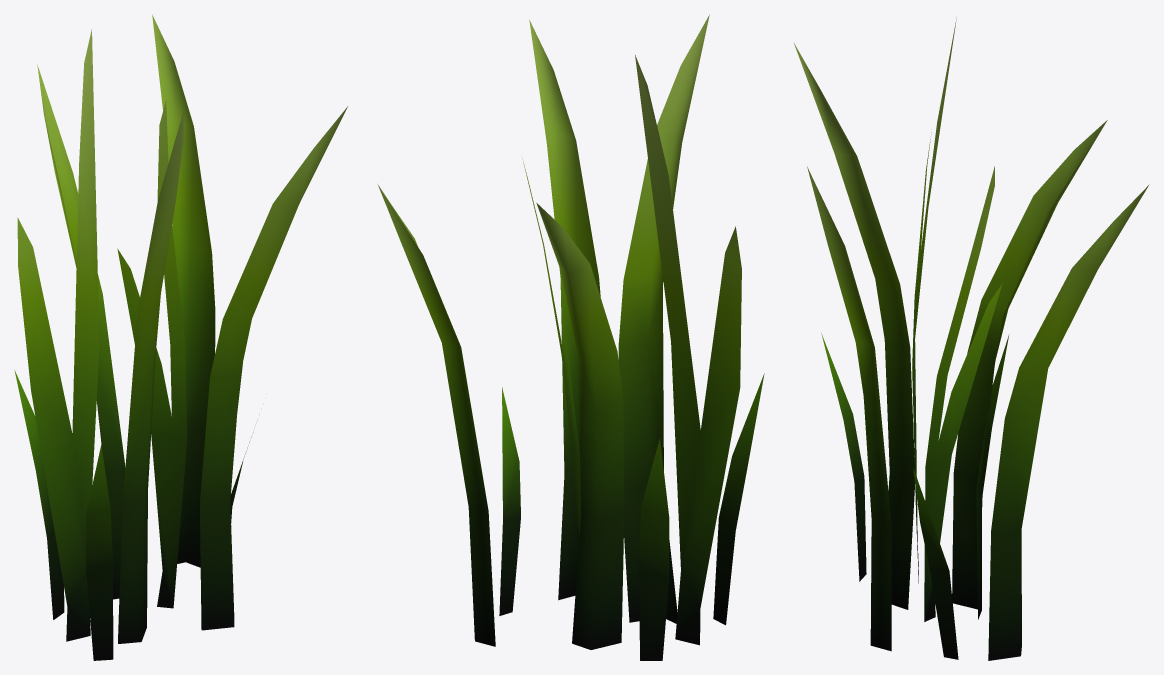
The model's file is Grass_Common_Short.gltf.
3 views of the same model, side by side, from view 1: azimuth 30°, elevation 25°; view 2: azimuth 150°, elevation 25°; view 3: azimuth 270°, elevation 25° (orthographic). The views are drawn at different scales.
Parts seen in each view (by area): view 1: Grass_Common_Short; view 2: Grass_Common_Short; view 3: Grass_Common_Short.
Boxes of the visible parts, x1,y1,x2,y2 form: Grass_Common_Short: (14,14,347,660); Grass_Common_Short: (378,14,764,660); Grass_Common_Short: (793,18,1149,660).
Bounding box in the file's own units: 0.6389 × 1.33 × 0.7373.
Materials: 1 (1 with a texture image).
